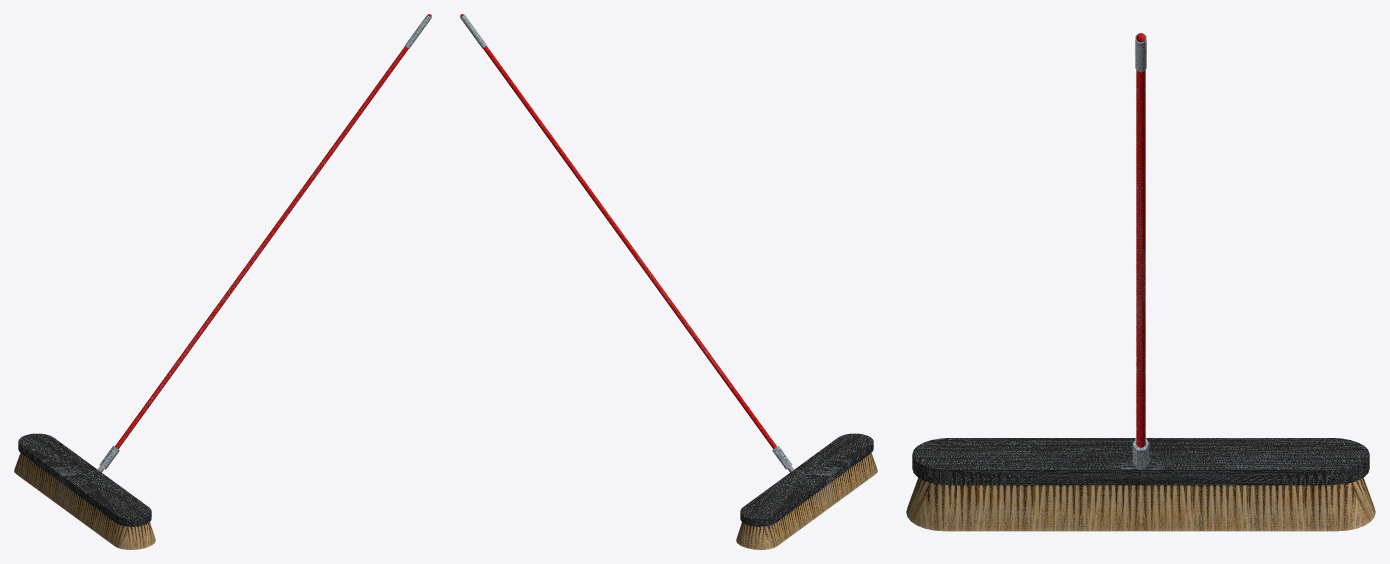
Rendered from Firca.fbx.
3 views of the same model, side by side, from view 1: azimuth 30°, elevation 25°; view 2: azimuth 150°, elevation 25°; view 3: azimuth 270°, elevation 25° (orthographic). The views are drawn at different scales.
Visible parts, largest first — view 1: Handle1, Component_1_1, Component_1_2, bristles1, bristles2; view 2: Handle1, Component_1_2, Component_1_1, bristles2, bristles1; view 3: bristles1, bristles2, Component_1_1, Component_1_2, Handle1.
Part boxes in pixels (x1,y1,x2,y2): Handle1: [98, 14, 431, 472]; Component_1_1: [68, 470, 151, 526]; Component_1_2: [18, 433, 97, 487]; bristles1: [65, 489, 155, 549]; bristles2: [14, 453, 69, 509]; Handle1: [460, 14, 793, 472]; Component_1_2: [740, 470, 823, 526]; Component_1_1: [794, 433, 873, 487]; bristles2: [736, 489, 826, 549]; bristles1: [822, 453, 877, 509]; bristles1: [906, 478, 1140, 531]; bristles2: [1141, 478, 1375, 531]; Component_1_1: [912, 438, 1140, 485]; Component_1_2: [1141, 438, 1369, 485]; Handle1: [1132, 33, 1149, 469].
Bounding box in the file's own units: 44.37 × 47.19 × 24.65.
